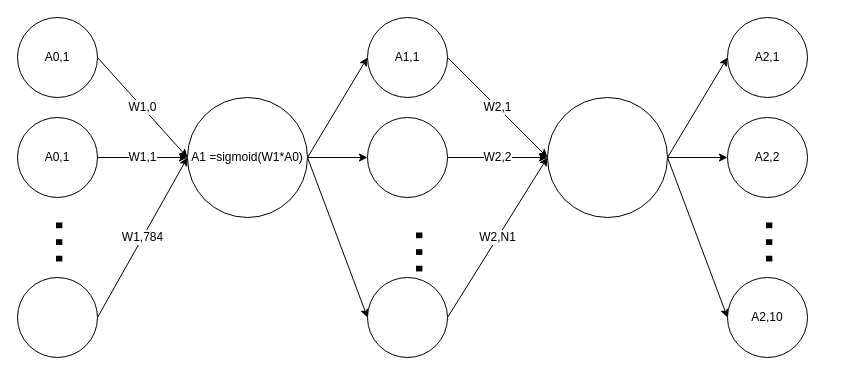
Some shapes in this 841 by 375 pixel diagram are drawn without their labels. Here are the shapes that lost their labels. From the top down, the centre of each, then its label:
At [407,157]: "A1,2".
At [607,157]: "A2 =softmax(W2*A1)".
At [57,317]: "A0,785".
At [407,317]: "A1,N1".
